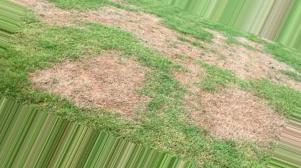patch: (67, 66, 131, 99), (208, 101, 286, 121), (126, 10, 168, 37), (236, 120, 274, 137), (226, 92, 237, 98)
